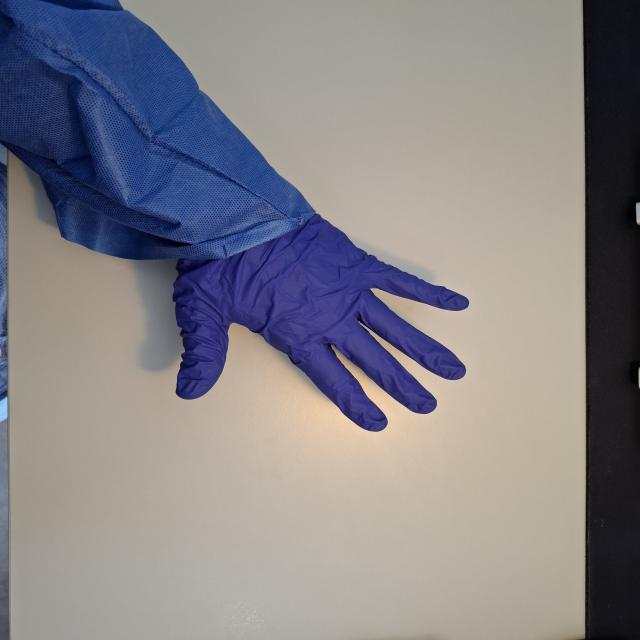glove_on: (168, 211, 474, 434)
